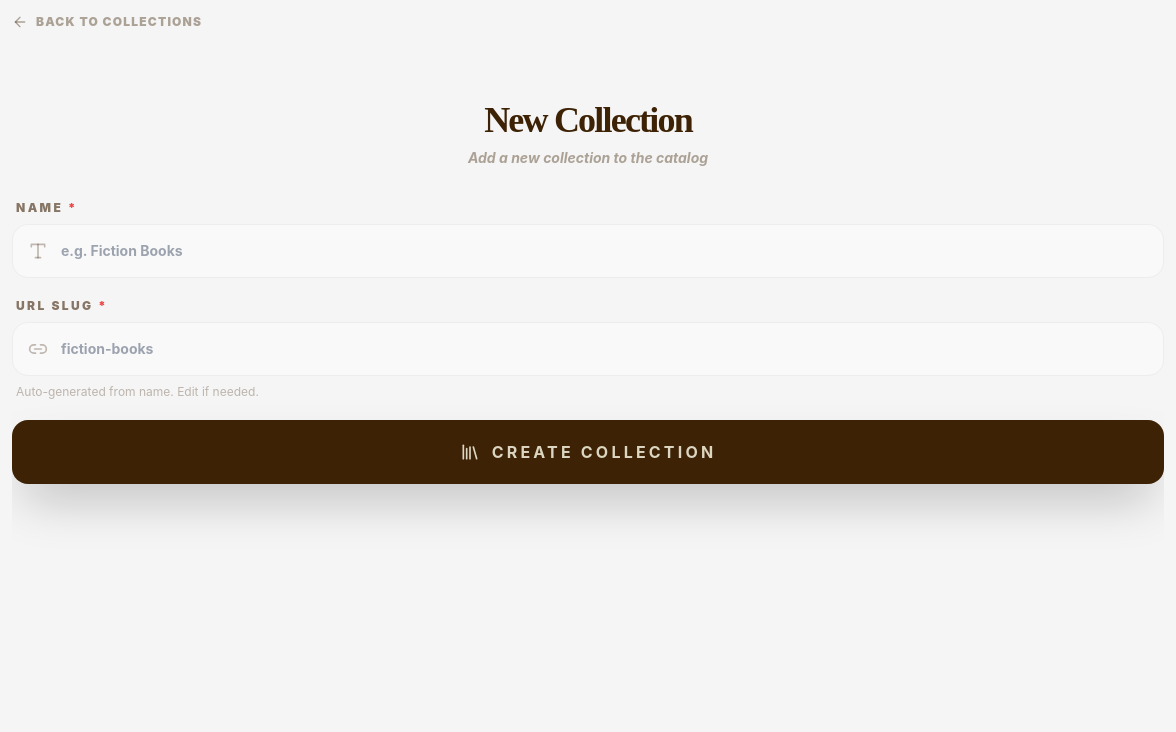
Test: CollectionNewPage › shows error on create failure
Step 1. Type "Test Collection" into the field with placeholder "e.g. Fiction Books" → (588, 251), box [12, 224, 1164, 278]
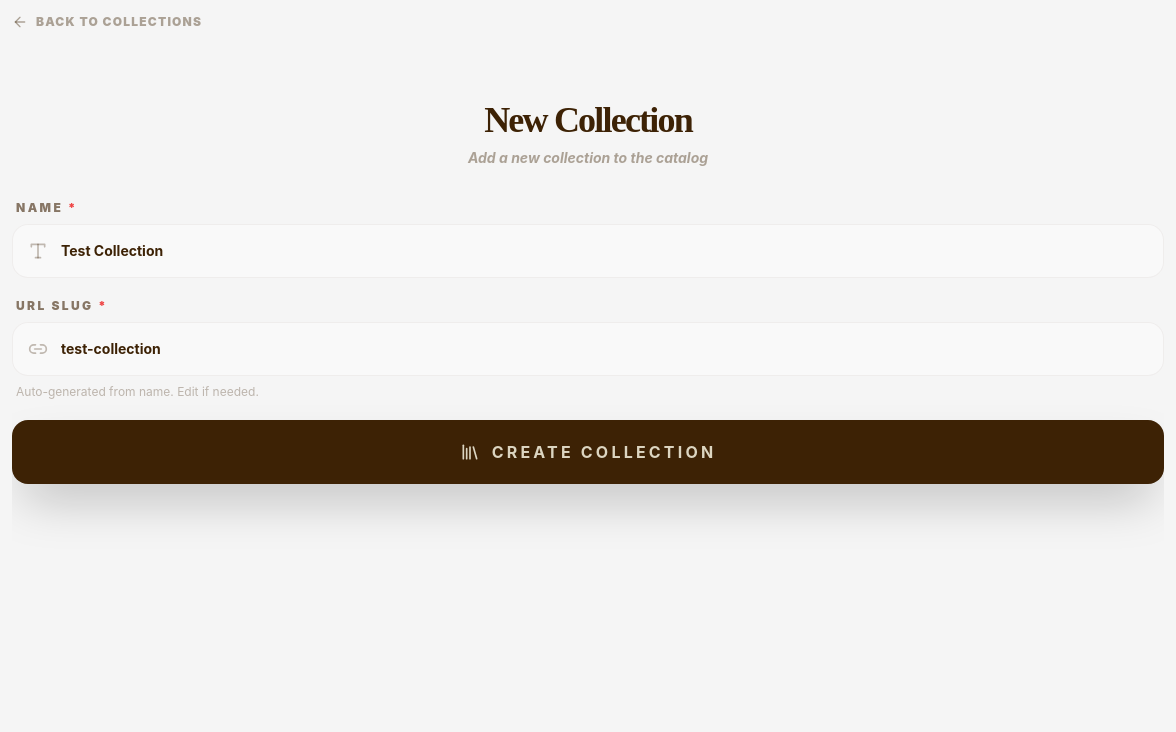
Step 2. Click the button "Create Collection" → (588, 452), box [12, 420, 1164, 484]
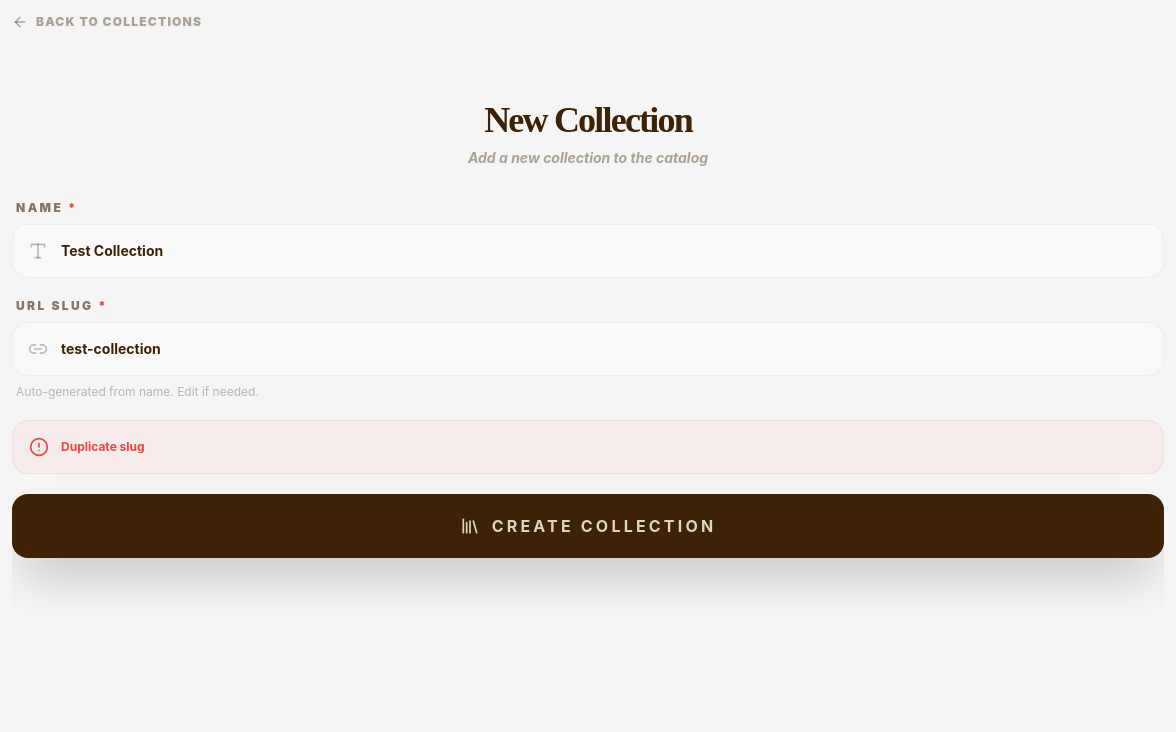
Now the text "Duplicate slug" is shown, box [61, 437, 145, 456]
